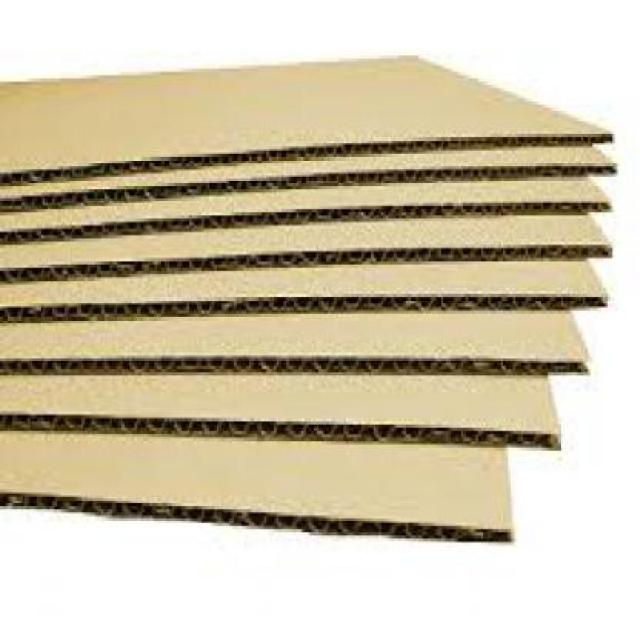CARDBOARD: (0, 52, 618, 184), (0, 428, 511, 538), (0, 372, 558, 451), (0, 170, 608, 238), (0, 143, 615, 205), (0, 312, 586, 377), (0, 254, 606, 308), (0, 212, 608, 265)
